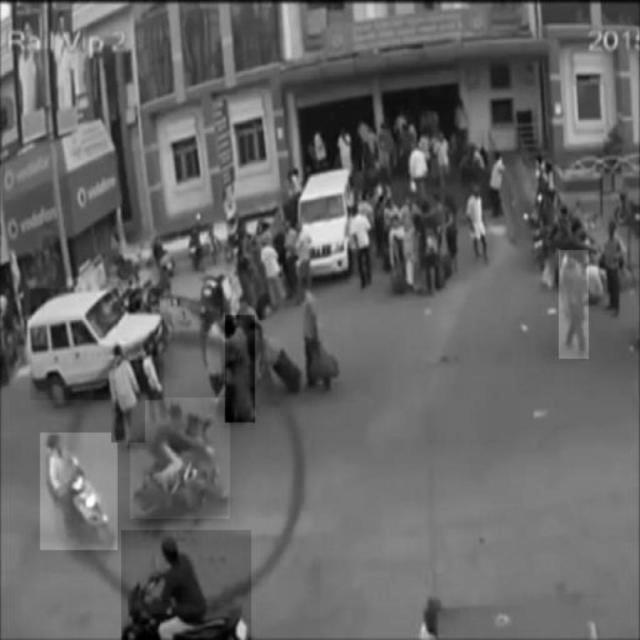person: (111, 344, 145, 442), (226, 315, 256, 423), (559, 251, 589, 359)
vehicle: (30, 289, 164, 400), (122, 530, 252, 640), (130, 398, 230, 519), (41, 433, 118, 551), (297, 167, 355, 278)
